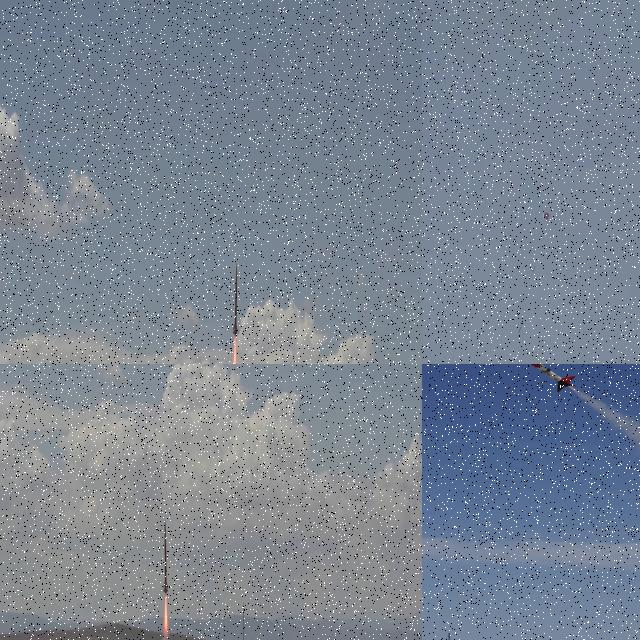Rocket: (512, 364, 577, 392), (233, 263, 238, 339), (164, 520, 168, 594), (518, 325, 522, 333)
